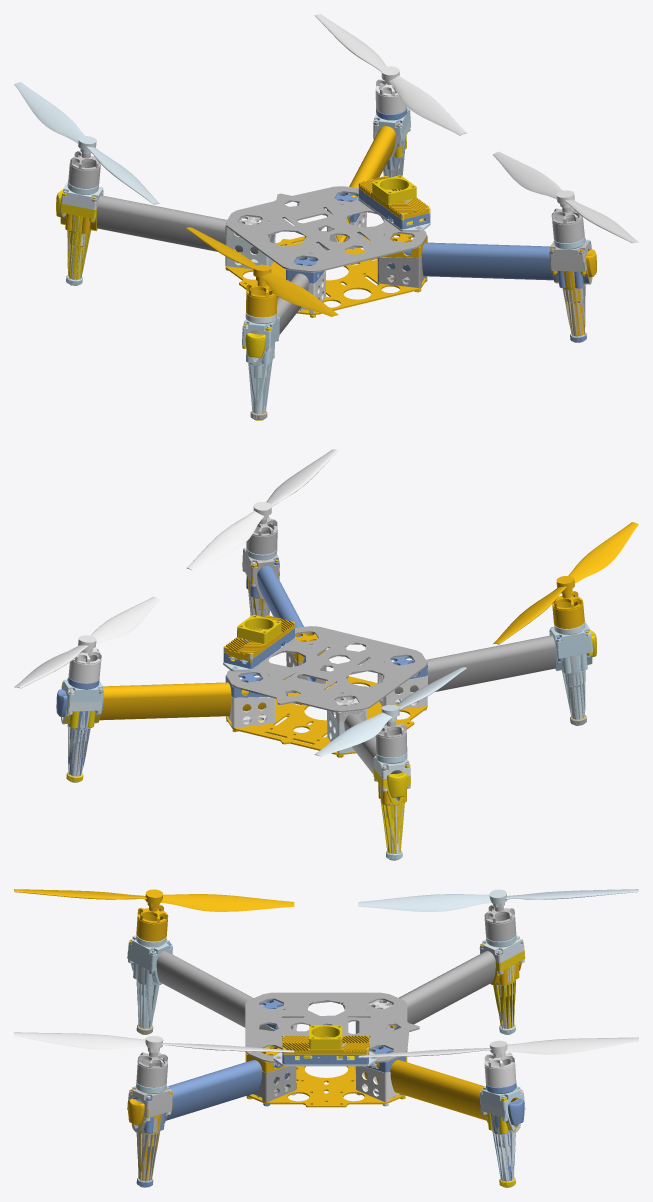
3 views of the same model, one above another, from view 1: azimuth 30°, elevation 25°; view 2: azimuth 150°, elevation 25°; view 3: azimuth 270°, elevation 25° (orthographic).
Parts seen in each view (by area): view 1: 450_NEW_asm_2023_1_3.003, 450_NEW_asm_2023_1_3.004, 450_NEW_asm_2023_1_3.006, 450_NEW_asm_2023_1_3.007, 450_NEW_asm_2023_1_3.005, 450_NEW_asm_2023_1_3, 450_NEW_asm_2023_1_3.002, 450_NEW_asm_2023_1_3.001; view 2: 450_NEW_asm_2023_1_3.003, 450_NEW_asm_2023_1_3.004, 450_NEW_asm_2023_1_3.006, 450_NEW_asm_2023_1_3.005, 450_NEW_asm_2023_1_3.007, 450_NEW_asm_2023_1_3.002, 450_NEW_asm_2023_1_3, 450_NEW_asm_2023_1_3.001; view 3: 450_NEW_asm_2023_1_3.003, 450_NEW_asm_2023_1_3.004, 450_NEW_asm_2023_1_3.006, 450_NEW_asm_2023_1_3.007, 450_NEW_asm_2023_1_3.005, 450_NEW_asm_2023_1_3, 450_NEW_asm_2023_1_3.001, 450_NEW_asm_2023_1_3.002.
Boxes of the visible parts, box(x1,y1,x2,y2) form: 450_NEW_asm_2023_1_3.003: box(67, 120, 584, 419); 450_NEW_asm_2023_1_3.004: box(61, 126, 596, 414); 450_NEW_asm_2023_1_3.006: box(60, 14, 638, 342); 450_NEW_asm_2023_1_3.007: box(70, 108, 590, 342); 450_NEW_asm_2023_1_3.005: box(14, 82, 589, 413); 450_NEW_asm_2023_1_3: box(60, 122, 592, 414); 450_NEW_asm_2023_1_3.002: box(56, 109, 429, 420); 450_NEW_asm_2023_1_3.001: box(66, 107, 585, 414); 450_NEW_asm_2023_1_3.003: box(99, 626, 586, 854); 450_NEW_asm_2023_1_3.004: box(63, 522, 638, 805); 450_NEW_asm_2023_1_3.006: box(14, 449, 590, 853); 450_NEW_asm_2023_1_3.005: box(61, 547, 592, 778); 450_NEW_asm_2023_1_3.007: box(56, 548, 563, 852); 450_NEW_asm_2023_1_3.002: box(62, 615, 596, 853); 450_NEW_asm_2023_1_3: box(65, 517, 585, 860); 450_NEW_asm_2023_1_3.001: box(61, 548, 592, 859); 450_NEW_asm_2023_1_3.003: box(129, 939, 523, 1101); 450_NEW_asm_2023_1_3.004: box(14, 889, 524, 1181); 450_NEW_asm_2023_1_3.006: box(14, 938, 638, 1187); 450_NEW_asm_2023_1_3.007: box(128, 943, 525, 1186); 450_NEW_asm_2023_1_3.005: box(127, 889, 638, 1181); 450_NEW_asm_2023_1_3: box(127, 904, 517, 1181); 450_NEW_asm_2023_1_3.001: box(127, 934, 524, 1187); 450_NEW_asm_2023_1_3.002: box(129, 939, 524, 1186).
Bounding box in the file's own units: 0.3598 × 0.1476 × 0.5651.
